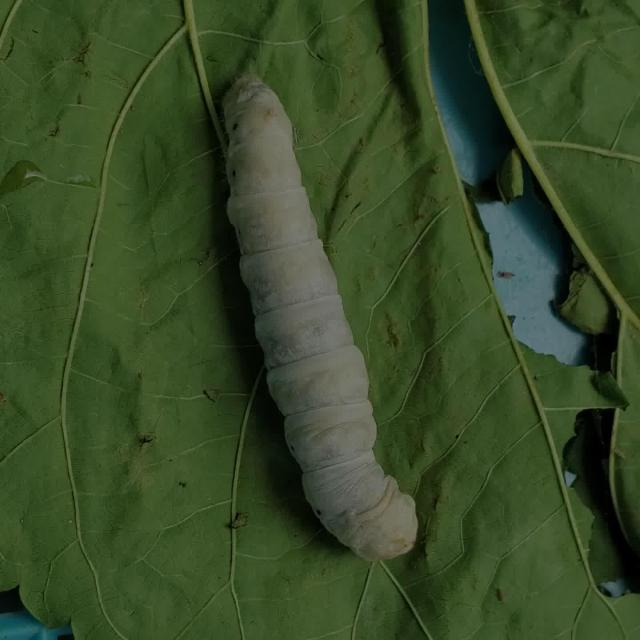Grasserie: (198, 68, 458, 574)
